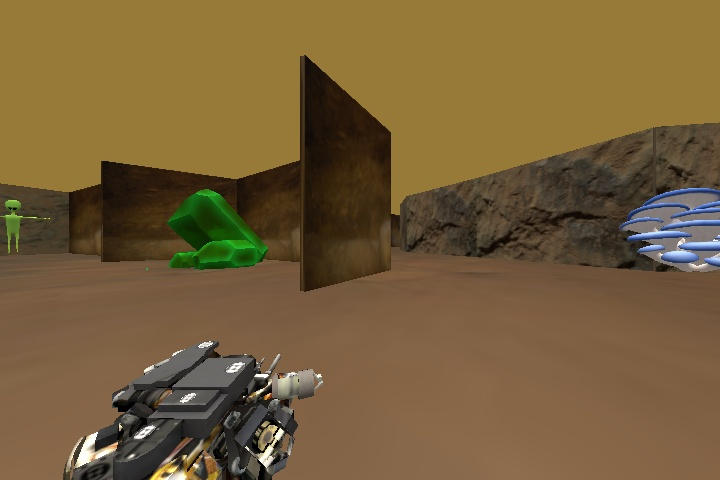alien: (0, 198, 54, 254)
gem: (167, 188, 269, 272)
mushroom: (621, 184, 720, 272)
